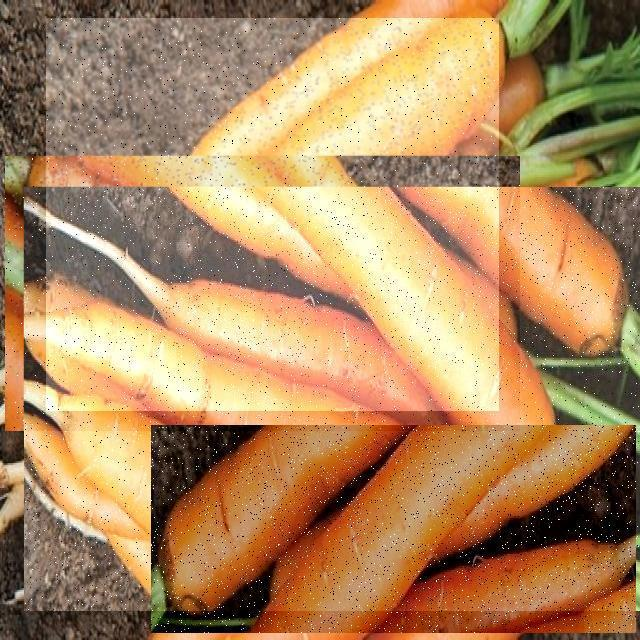Carrot: (24, 187, 640, 611), (46, 18, 499, 411), (5, 156, 520, 431), (151, 425, 636, 633)
